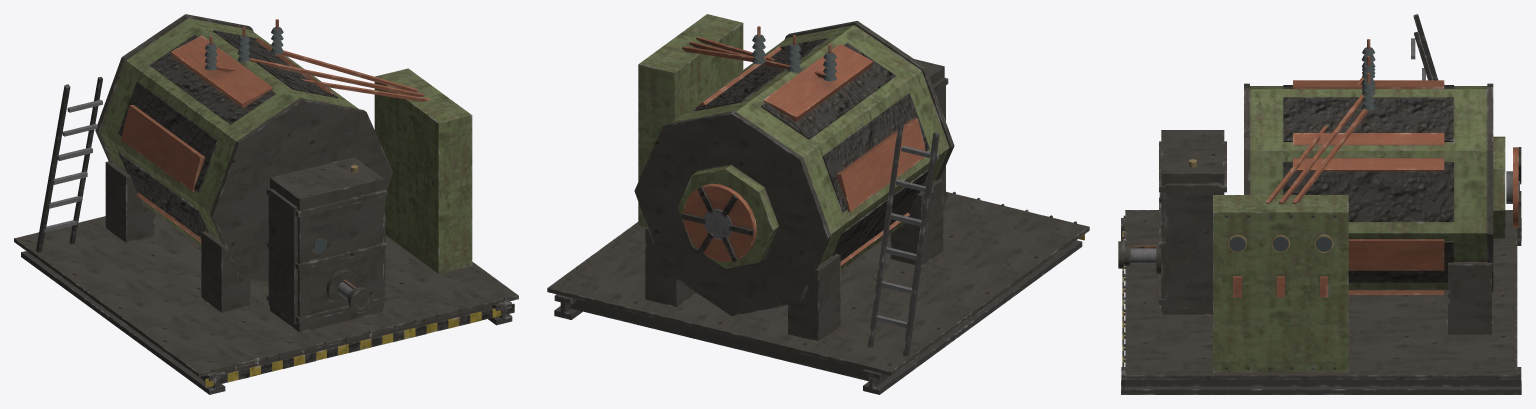
File: feDynamo2_HD.fbx
The picture shows the model from 3 angles, left to right: view 1: azimuth 30°, elevation 25°; view 2: azimuth 150°, elevation 25°; view 3: azimuth 270°, elevation 25°; orthographic projection. The views are drawn at different scales.
Visible parts, largest first — view 1: feDynamo2_Base, FeSpin_Dynamo2In; view 2: feDynamo2_Base, FeSpin_Dynamo2Rotor; view 3: feDynamo2_Base, FeSpin_Dynamo2Rotor, FeSpin_Dynamo2In.
Boxes of the visible parts, x1,y1,x2,y2 form: feDynamo2_Base: (14, 14, 518, 394); FeSpin_Dynamo2In: (337, 279, 373, 313); feDynamo2_Base: (547, 14, 1089, 394); FeSpin_Dynamo2Rotor: (681, 183, 756, 262); feDynamo2_Base: (1121, 14, 1521, 394); FeSpin_Dynamo2Rotor: (1506, 147, 1521, 228); FeSpin_Dynamo2In: (1118, 241, 1156, 268).
Size of the model in its own units: 2.9 by 2.12 by 2.98.
1 material, 1 textured.
